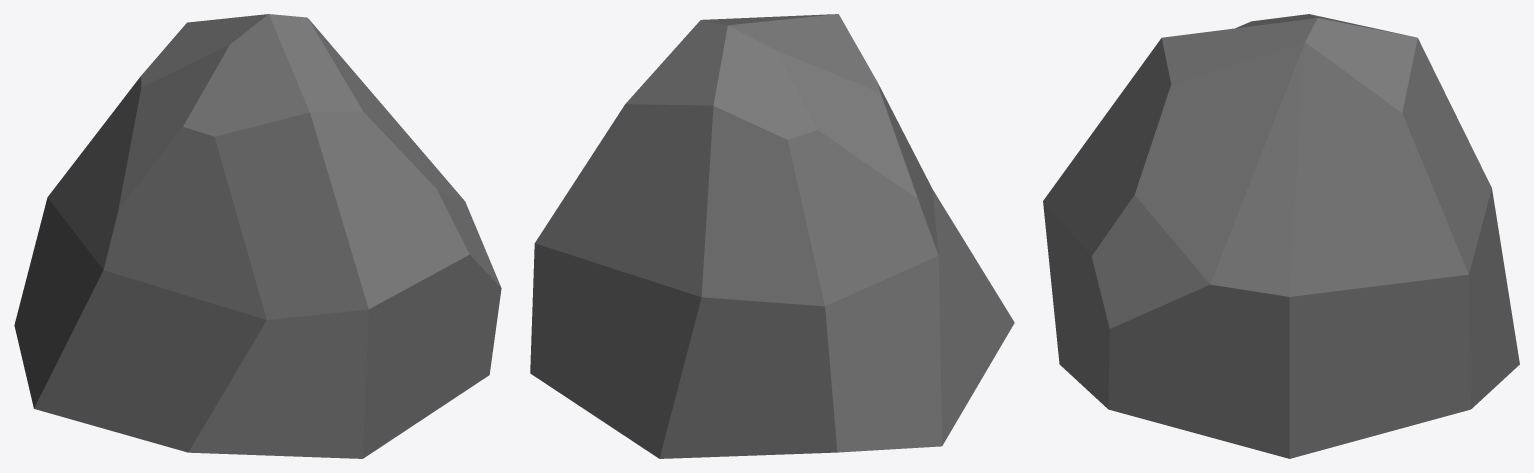
Rendered from Stein_Klein_001.fbx.
The picture shows the model from 3 angles, left to right: view 1: azimuth 30°, elevation 25°; view 2: azimuth 150°, elevation 25°; view 3: azimuth 270°, elevation 25°; orthographic projection. The views are drawn at different scales.
Parts seen in each view (by area): view 1: Stein_Klein_001; view 2: Stein_Klein_001; view 3: Stein_Klein_001.
Part boxes in pixels (x1=…): Stein_Klein_001: x1=14, y1=14, x2=501, y2=458; Stein_Klein_001: x1=530, y1=14, x2=1014, y2=458; Stein_Klein_001: x1=1043, y1=14, x2=1519, y2=458.
Bounding box in the file's own units: 157 × 146 × 162.
